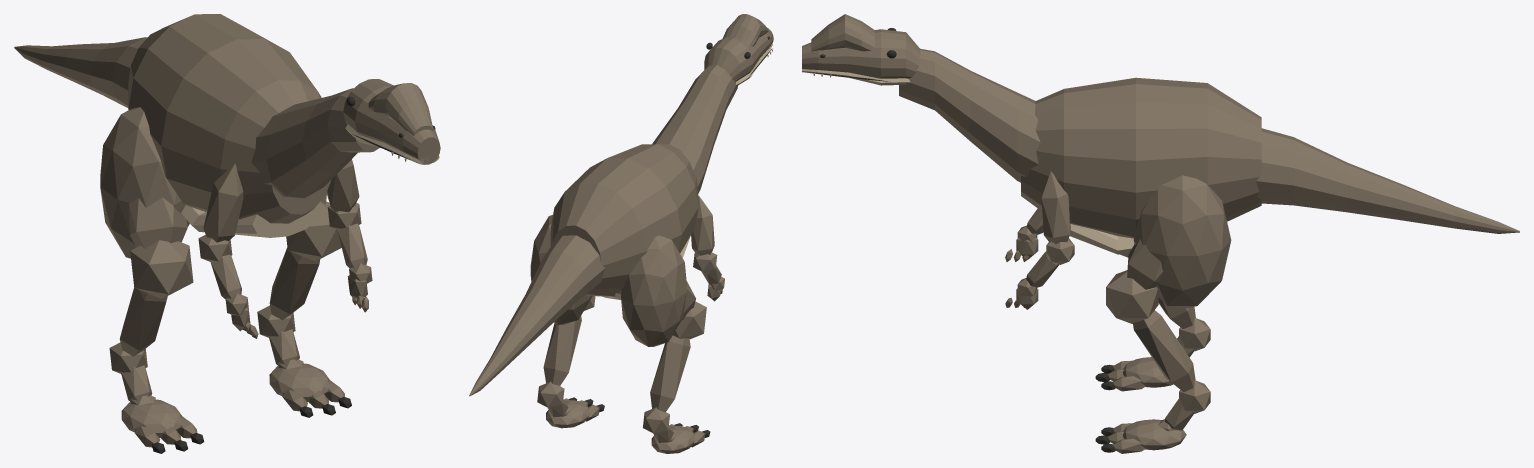
The picture shows the model from 3 angles, left to right: view 1: azimuth 30°, elevation 25°; view 2: azimuth 150°, elevation 25°; view 3: azimuth 270°, elevation 25°; orthographic projection. The views are drawn at different scales.
Parts seen in each view (by area): view 1: surface_earth_gray_brown, surface_warm_underside, surface_eyes_nostrils_toe_tips; view 2: surface_earth_gray_brown, surface_eyes_nostrils_toe_tips, surface_warm_underside; view 3: surface_earth_gray_brown, surface_warm_underside, surface_eyes_nostrils_toe_tips.
Part boxes in pixels (box(x1,y1,x2,y2)): surface_earth_gray_brown: box(14, 14, 440, 447); surface_warm_underside: box(181, 124, 439, 237); surface_eyes_nostrils_toe_tips: box(151, 96, 435, 453); surface_earth_gray_brown: box(469, 14, 773, 453); surface_eyes_nostrils_toe_tips: box(569, 36, 772, 437); surface_warm_underside: box(602, 43, 772, 299); surface_earth_gray_brown: box(802, 14, 1519, 453); surface_warm_underside: box(802, 69, 1134, 254); surface_eyes_nostrils_toe_tips: box(808, 28, 1115, 452).
Size of the model in its own units: 0.2909 by 0.614 by 1.
